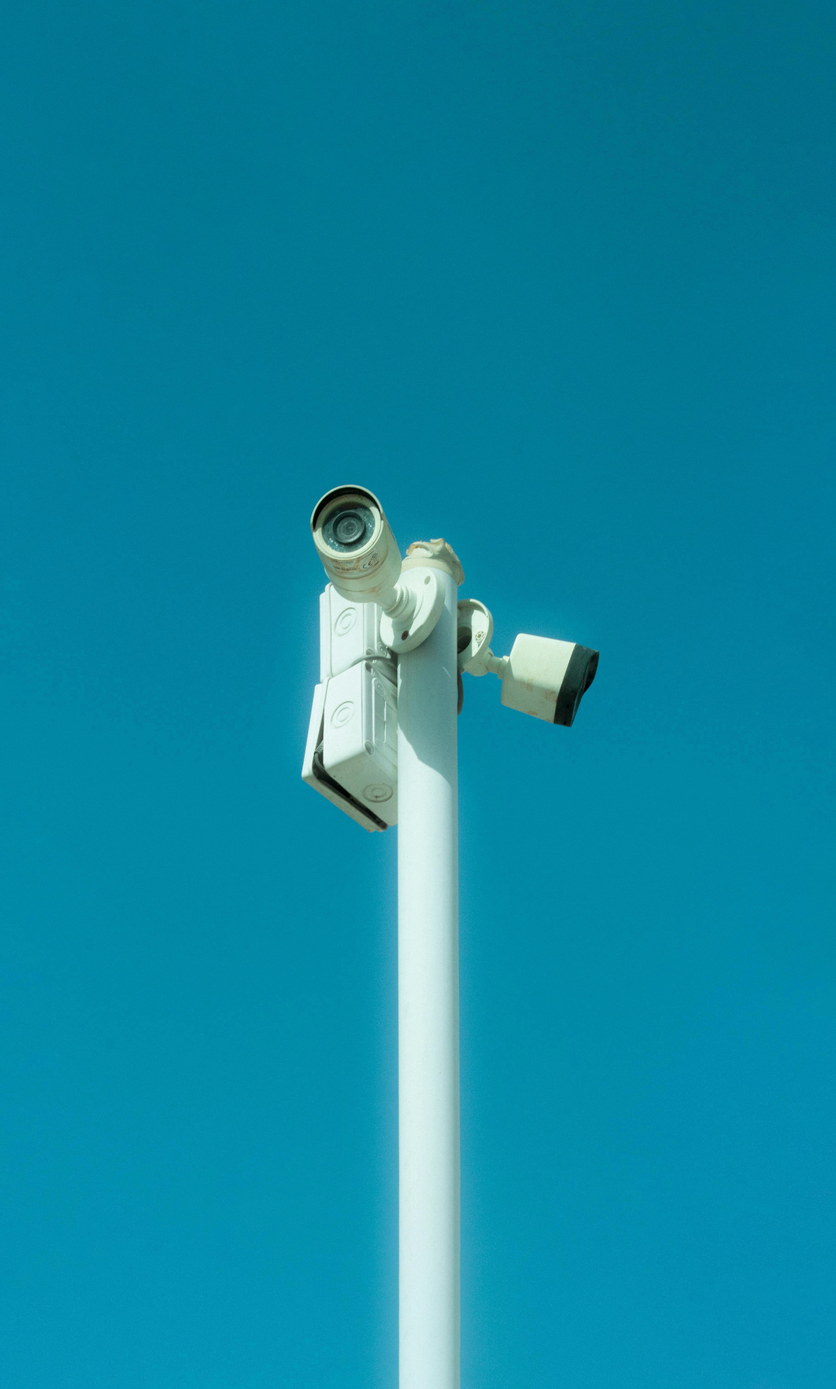camera: (234, 431, 477, 662), (445, 552, 667, 777)
